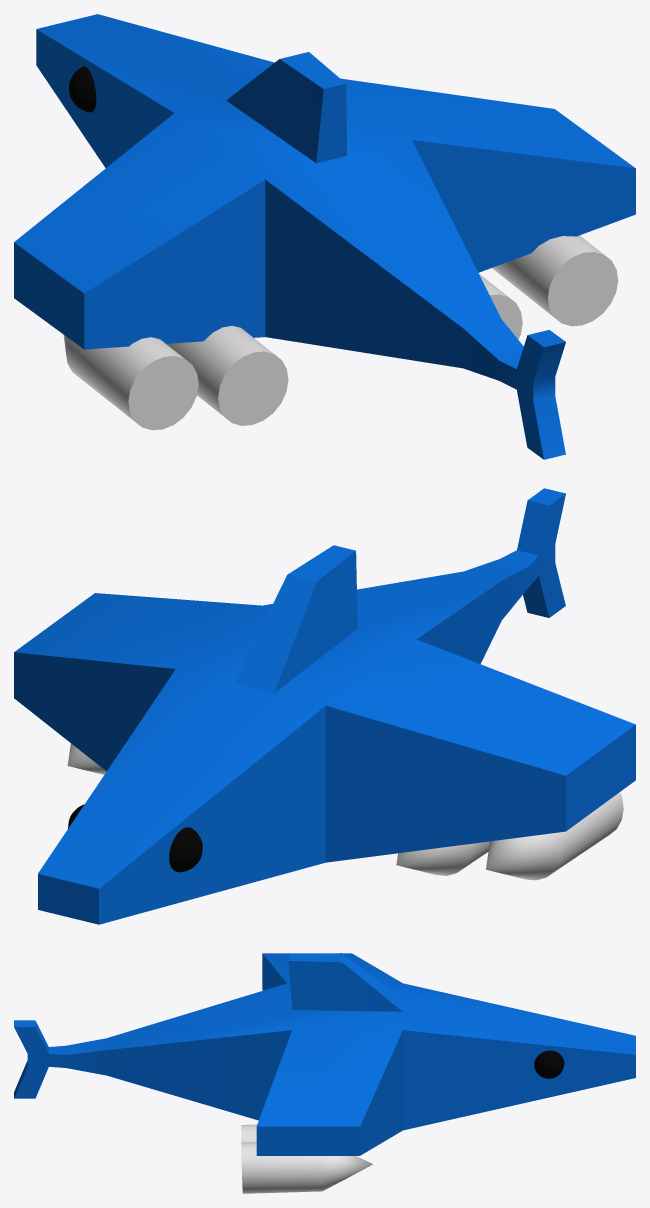
The model's file is spaceShip.fbx.
3 views of the same model, one above another, from view 1: azimuth 30°, elevation 25°; view 2: azimuth 150°, elevation 25°; view 3: azimuth 270°, elevation 25° (orthographic). The views are drawn at different scales.
Parts seen in each view (by area): view 1: pCone5; view 2: pCone5; view 3: pCone5.
Part boxes in pixels (box(x1,y1,x2,y2)): pCone5: box(14, 14, 635, 459); pCone5: box(14, 488, 635, 924); pCone5: box(14, 953, 635, 1193).
Size of the model in its own units: 3.64 by 1.8 by 5.62.
